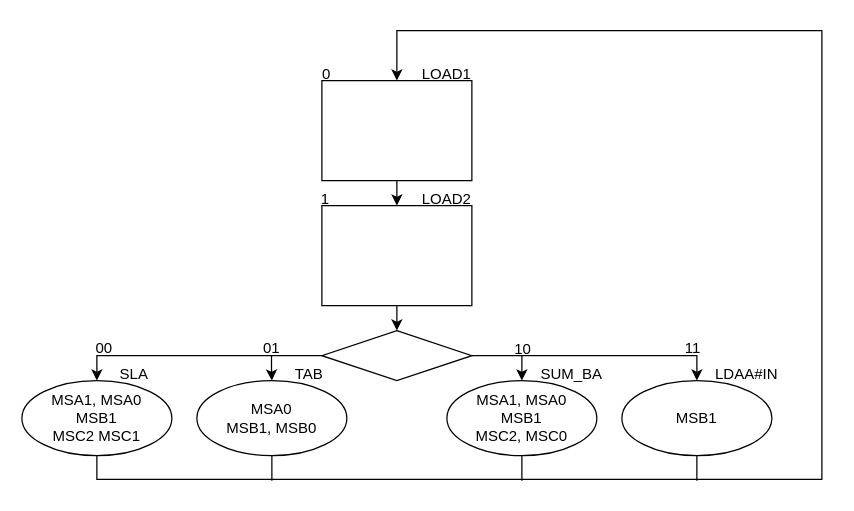
Image size: 854x511. Some labels were removed from this diagram. Here are the shapes that lost their labels. From the top down, the centre of each, then its label:
the point at 396,130: IR.LD MSA0 MSB1
the point at 396,355: IR1, IR0
